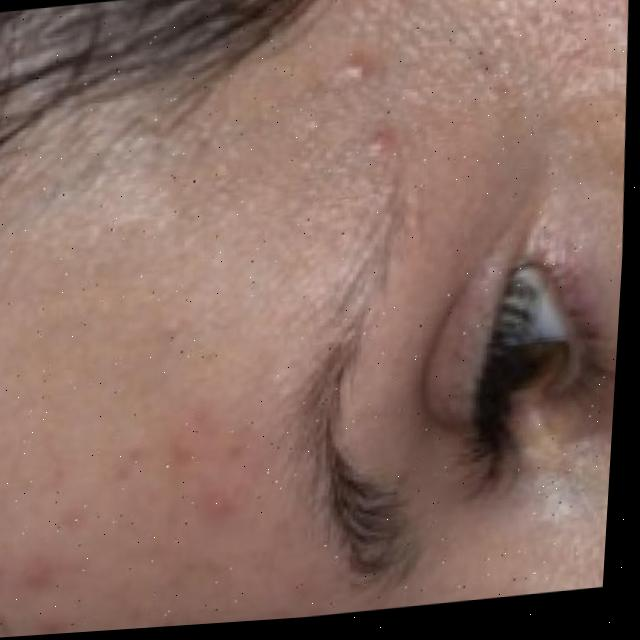Acne: (50, 428, 223, 634)
